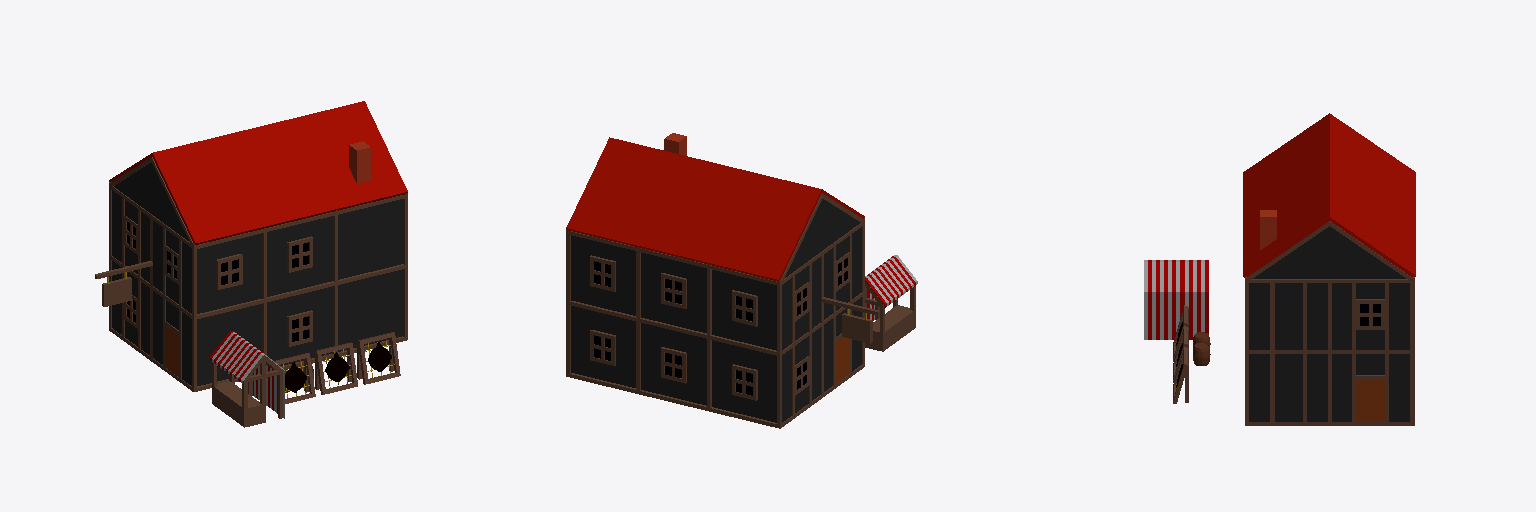
File: timberframedtanner.obj
3 renders of one model, left to right at view 1: azimuth 30°, elevation 25°; view 2: azimuth 150°, elevation 25°; view 3: azimuth 270°, elevation 25°, orthographic.
Parts seen in each view (by area): view 1: Cube.005, Cube.007_Cube.011, Cylinder.001_Cylinder.008, Cylinder.003_Cylinder.001, Cylinder.004_Cylinder.009, Cube.011_Cube.015, Cube.018_Cube.016, Cube.056_Cube.081, Cube.001_Cube.058, Cube.013_Cube.080, Cube.006_Cube.010, Cube.026_Cube.019 (+7 smaller); view 2: Cube.005, Cube.007_Cube.011, Cube.023_Cube.026, Cube.022_Cube.025, Cube.021_Cube.024, Cube.015_Cube.020, Cube.019_Cube.022, Cube.017_Cube.021, Cube.014_Cube.018, Cube.008, Cube.020_Cube.023, Cube.073_Cube.078 (+6 smaller); view 3: Cube.005, Cube.007_Cube.011, Cube.147_Cube.153, Cube.003, Cube.033, Cube.027, Cube.047_Cube.049, Cube.031, Cube.016_Cube.013, Cube.006_Cube.010, Cube.012_Cube.017, Cube.032 (+5 smaller).
Boxes of the visible parts, <box> form: Cube.005: <box>112,162,402,385</box>; Cube.007_Cube.011: <box>109,101,407,244</box>; Cylinder.001_Cylinder.008: <box>357,332,400,384</box>; Cylinder.003_Cylinder.001: <box>315,342,357,394</box>; Cylinder.004_Cylinder.009: <box>274,353,315,403</box>; Cube.011_Cube.015: <box>195,264,405,319</box>; Cube.018_Cube.016: <box>195,195,406,249</box>; Cube.056_Cube.081: <box>216,254,242,289</box>; Cube.001_Cube.058: <box>287,310,312,346</box>; Cube.013_Cube.080: <box>287,236,312,272</box>; Cube.006_Cube.010: <box>349,141,370,183</box>; Cube.026_Cube.019: <box>192,243,196,391</box>; Cube.005: <box>571,199,861,422</box>; Cube.007_Cube.011: <box>566,137,864,280</box>; Cube.023_Cube.026: <box>567,373,779,427</box>; Cube.022_Cube.025: <box>567,301,779,355</box>; Cube.021_Cube.024: <box>567,231,777,284</box>; Cube.015_Cube.020: <box>732,290,757,326</box>; Cube.019_Cube.022: <box>661,347,686,383</box>; Cube.017_Cube.021: <box>590,330,615,365</box>; Cube.014_Cube.018: <box>661,273,686,308</box>; Cube.008: <box>590,255,615,291</box>; Cube.020_Cube.023: <box>732,364,757,400</box>; Cube.073_Cube.078: <box>842,313,872,343</box>; Cube.005: <box>1249,226,1409,421</box>; Cube.007_Cube.011: <box>1243,113,1415,277</box>; Cube.147_Cube.153: <box>1144,292,1208,339</box>; Cube.003: <box>1356,380,1384,421</box>; Cube.033: <box>1356,299,1384,329</box>; Cube.027: <box>1410,277,1414,425</box>; Cube.047_Cube.049: <box>1270,279,1274,423</box>; Cube.031: <box>1248,422,1410,425</box>; Cube.016_Cube.013: <box>1248,350,1410,353</box>; Cube.006_Cube.010: <box>1260,210,1276,249</box>; Cube.012_Cube.017: <box>1245,277,1248,425</box>; Cube.032: <box>1248,279,1410,282</box>.
Size of the model in its own units: 15.3 by 11.25 by 13.34.